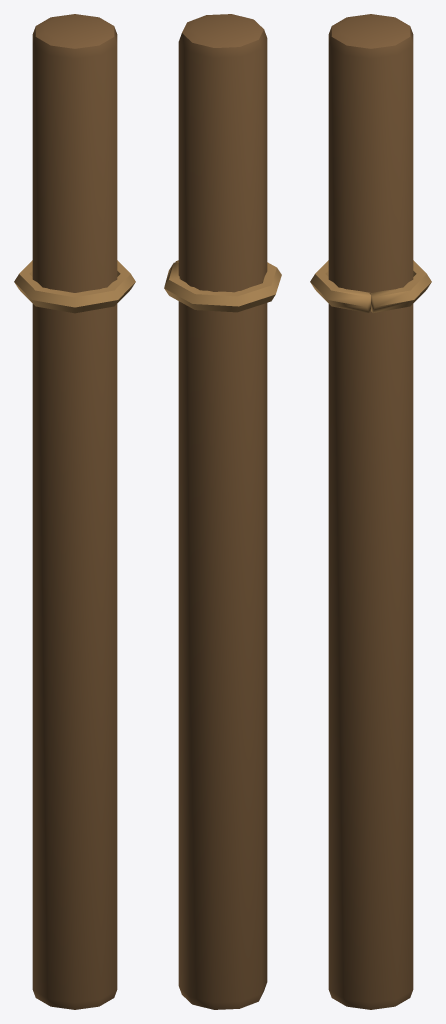
File: fence-willow-post.glb
3 renders of one model, left to right at view 1: azimuth 90°, elevation 25°; view 2: azimuth 150°, elevation 25°; view 3: azimuth 270°, elevation 25°, orthographic.
Visible parts, largest first — view 1: post; view 2: post; view 3: post.
Boxes of the visible parts, box(x1,y1,x2,y2) form: post: box(14, 14, 135, 1009); post: box(164, 14, 281, 1009); post: box(310, 14, 431, 1009).
Size of the model in its own units: 0.0954 by 0.84 by 0.096.
